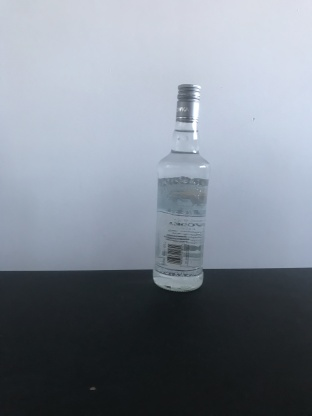nakretka: (174, 81, 202, 123)
